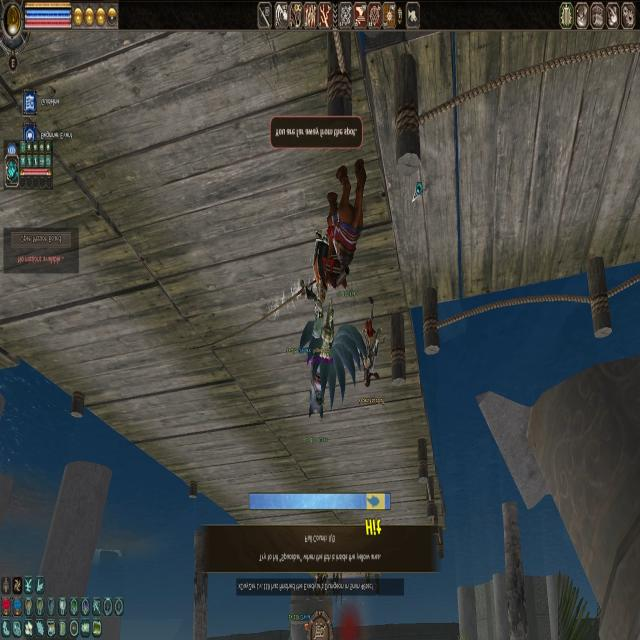fishes: (367, 495, 381, 508)
